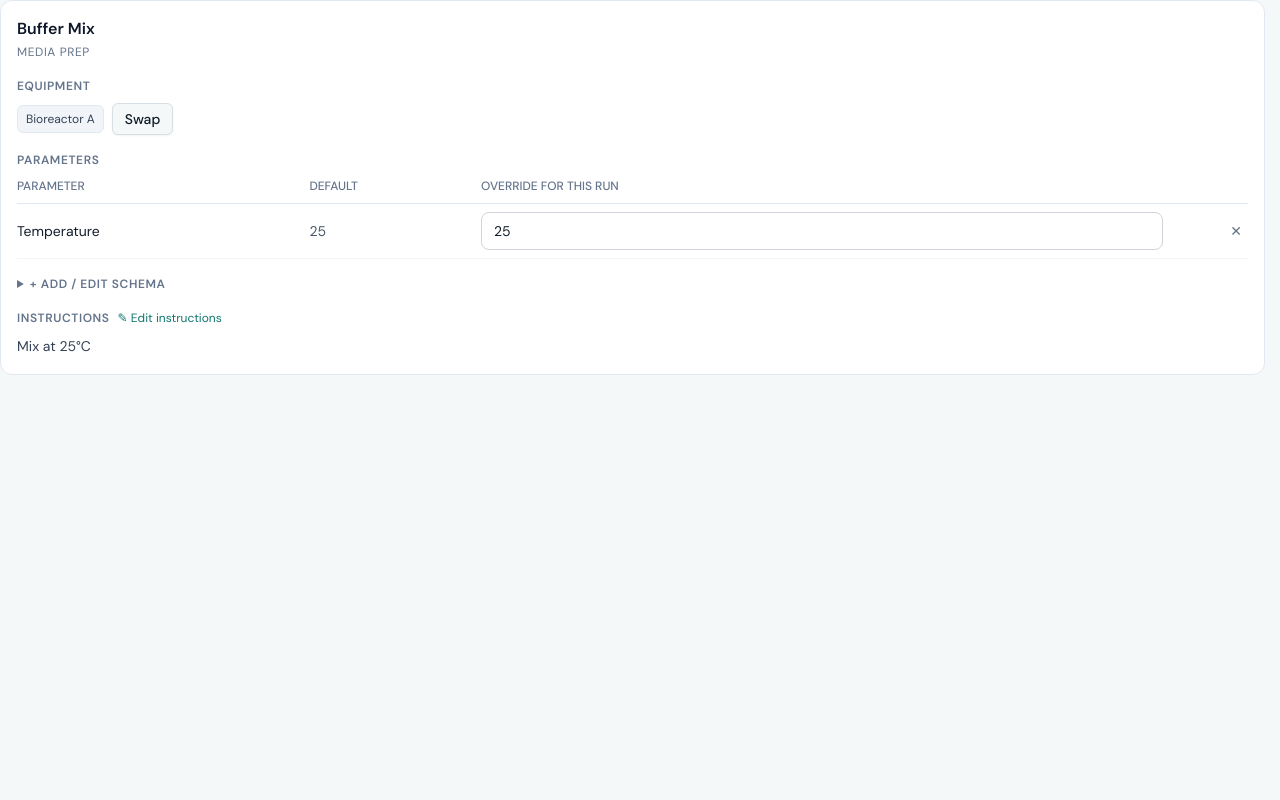
Scenario: RunCreatorUnitOpCard › toggles instructions block when ✎ Edit instructions clicked
Click the button "✎ Edit instructions": (170, 318) [118,309,222,327]
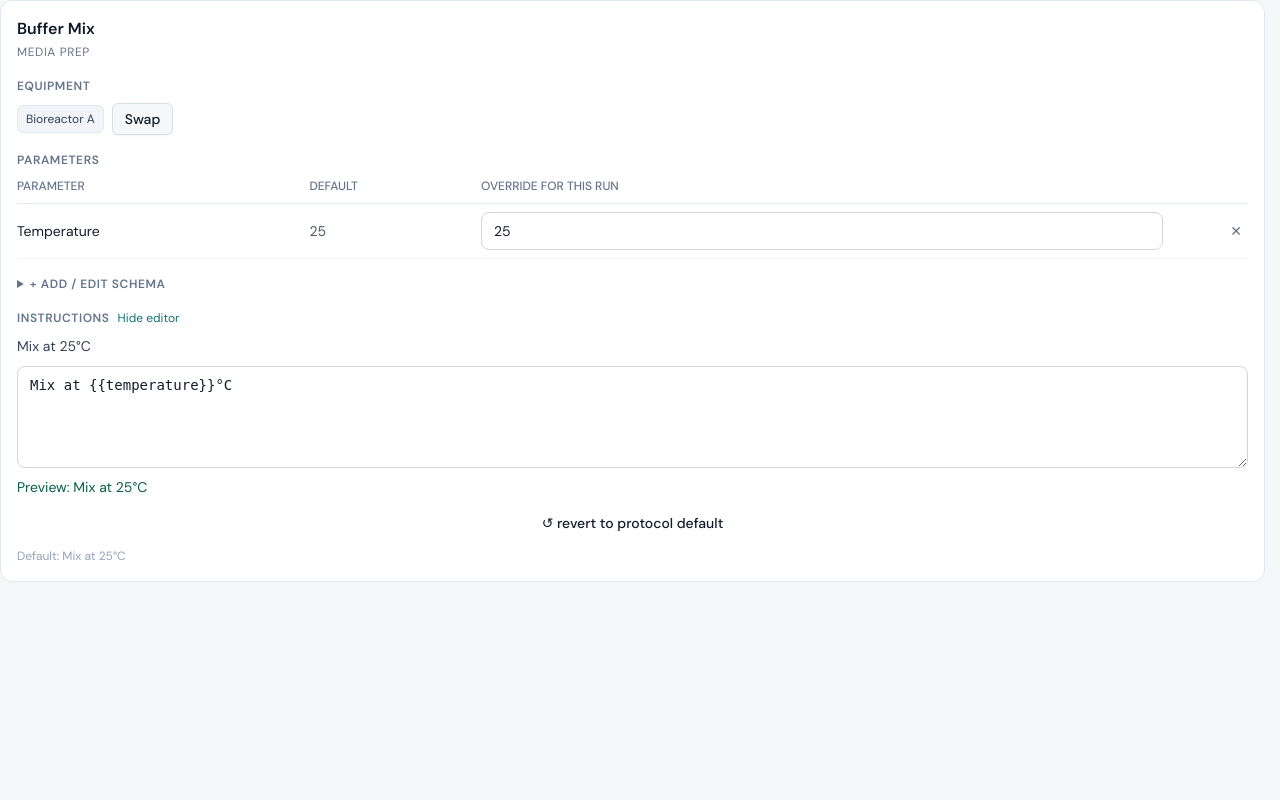
Expected: the text box is shown, [17,366,1248,468]
